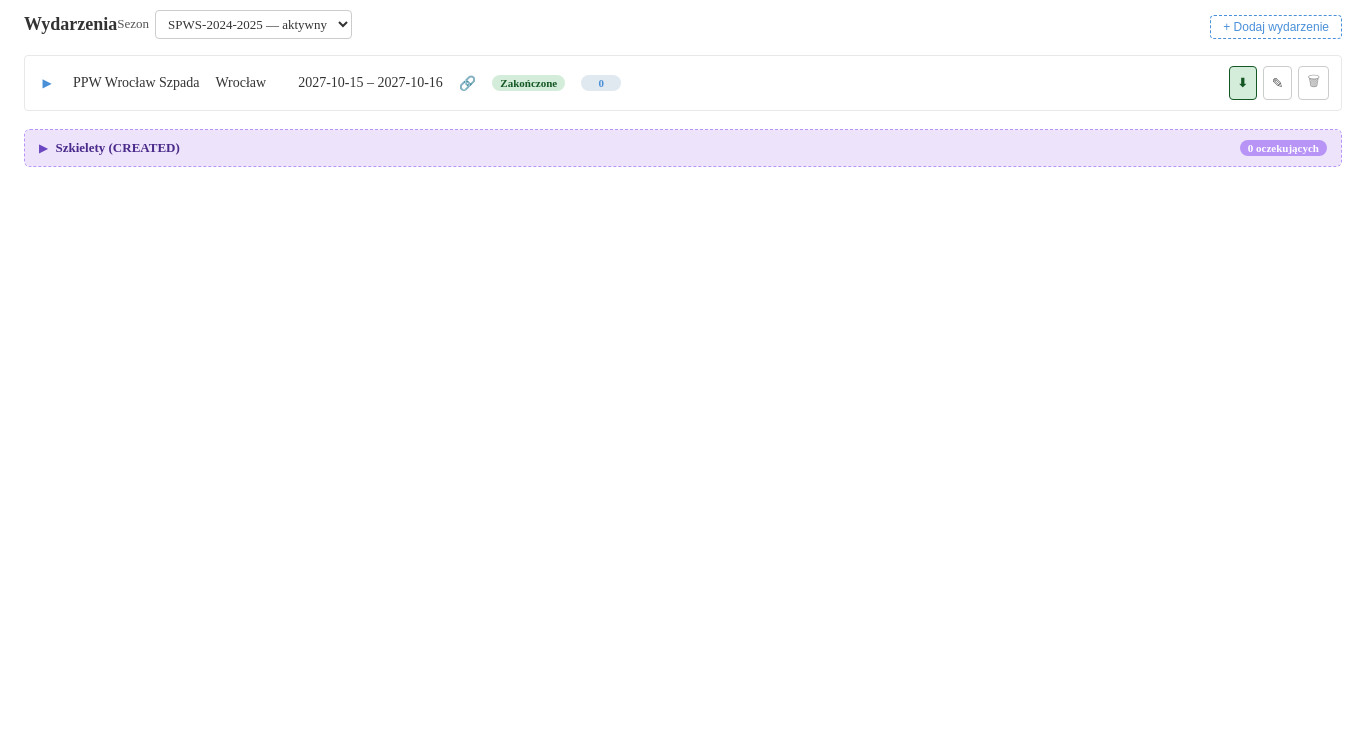
Test: EventManager (T9.3) › future COMPLETED event dropdown offers only validator-permitted transitions
Click the button "✎".
click(1277, 83)  # box [1263, 66, 1292, 100]
(page scrolled)
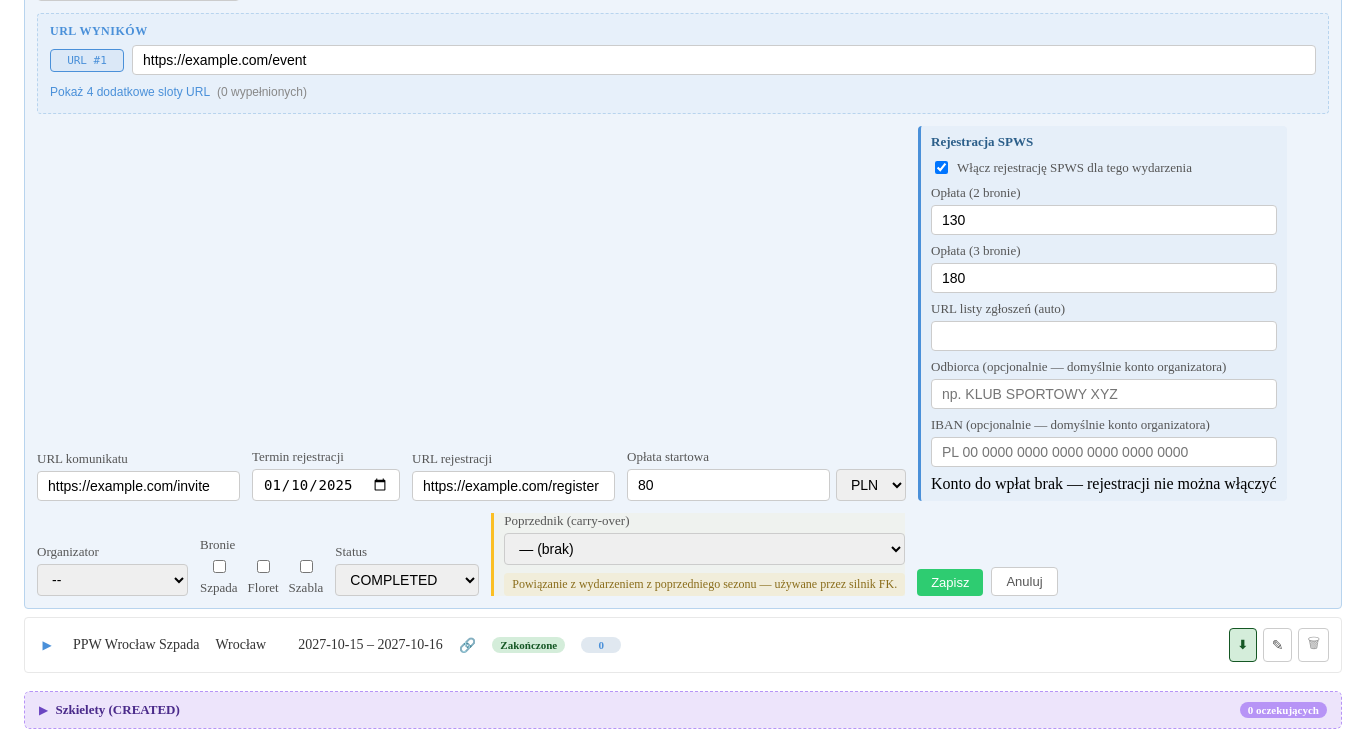
Check: the text "Szkielety (CREATED)" is shown, box [56, 702, 180, 717]
Check: the dropdown labelled "Status" is shown, box [335, 564, 479, 596]
